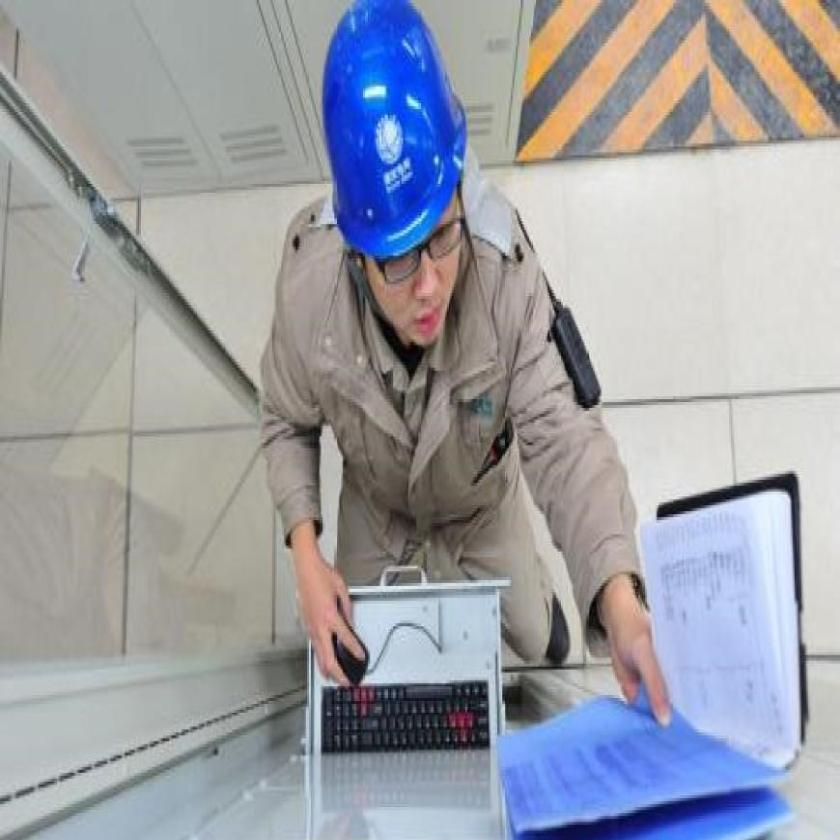Con_casco: (318, 0, 477, 380)
